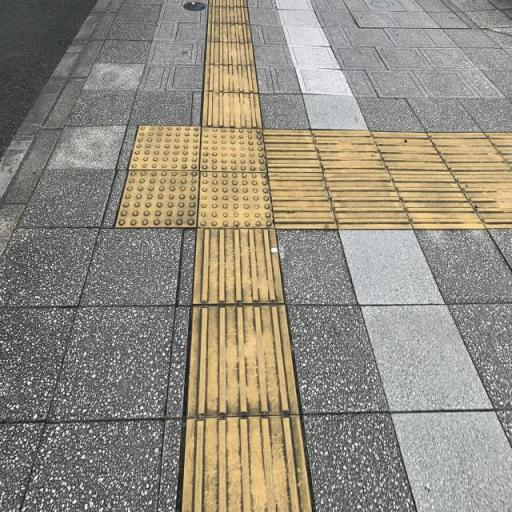dot: (116, 170, 199, 227), (197, 172, 273, 229), (130, 125, 199, 171), (200, 128, 266, 173)
line: (178, 415, 310, 511), (189, 306, 299, 418), (194, 227, 285, 308), (392, 174, 486, 230), (326, 173, 413, 231), (269, 173, 337, 230), (312, 130, 389, 173), (371, 131, 451, 171), (264, 130, 322, 172)
